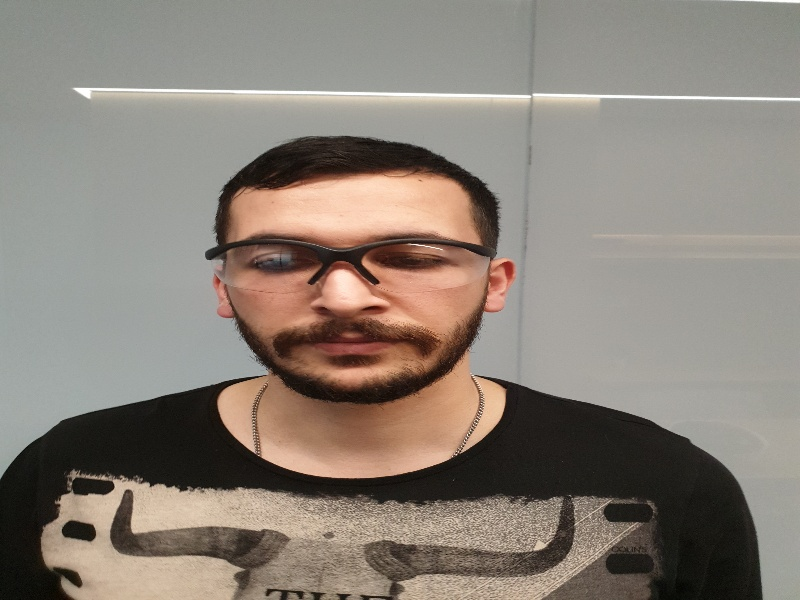Gozluk: (205, 237, 497, 291)
